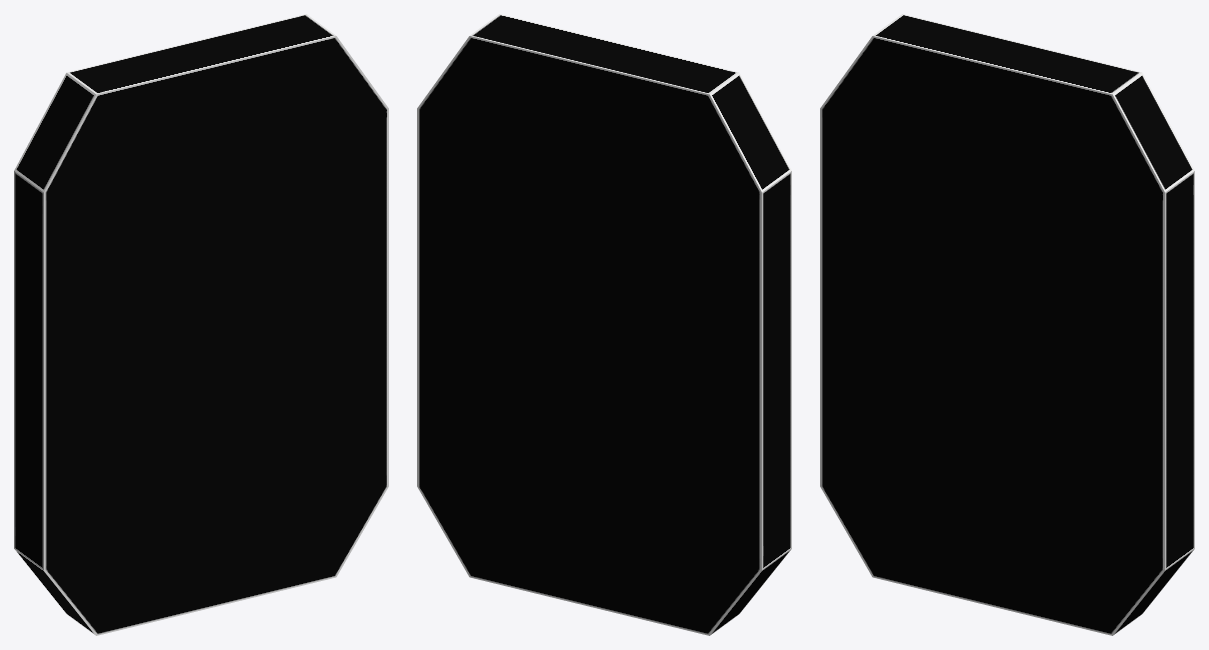
File: RegularObstacle.fbx
3 renders of one model, left to right at view 1: azimuth 30°, elevation 25°; view 2: azimuth 150°, elevation 25°; view 3: azimuth 330°, elevation 25°, orthographic.
Parts seen in each view (by area): view 1: RegularObstacle; view 2: RegularObstacle; view 3: RegularObstacle.
Part boxes in pixels (box(x1,y1,x2,y2)): RegularObstacle: box(14, 14, 388, 635); RegularObstacle: box(417, 14, 791, 635); RegularObstacle: box(820, 14, 1194, 635).
Bounding box in the file's own units: 200 × 300 × 30.
